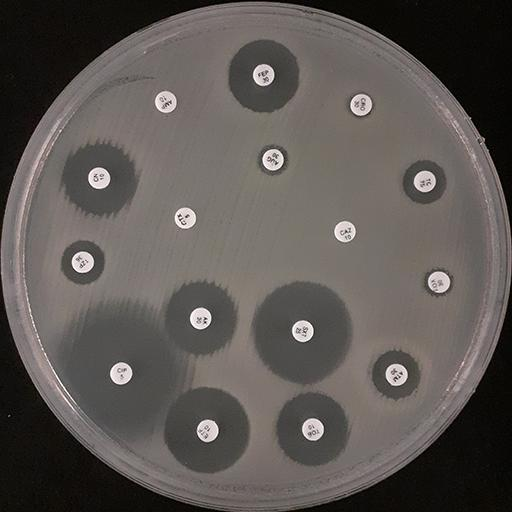disc: (384, 363, 410, 388), (413, 170, 438, 194), (153, 90, 178, 114), (71, 251, 95, 275), (333, 219, 357, 243), (427, 270, 451, 294), (87, 167, 112, 190), (302, 418, 326, 441), (291, 320, 315, 343), (261, 148, 284, 172), (189, 307, 212, 330), (253, 64, 276, 87), (174, 206, 197, 229), (349, 93, 372, 116), (197, 418, 219, 442), (110, 362, 132, 386)
